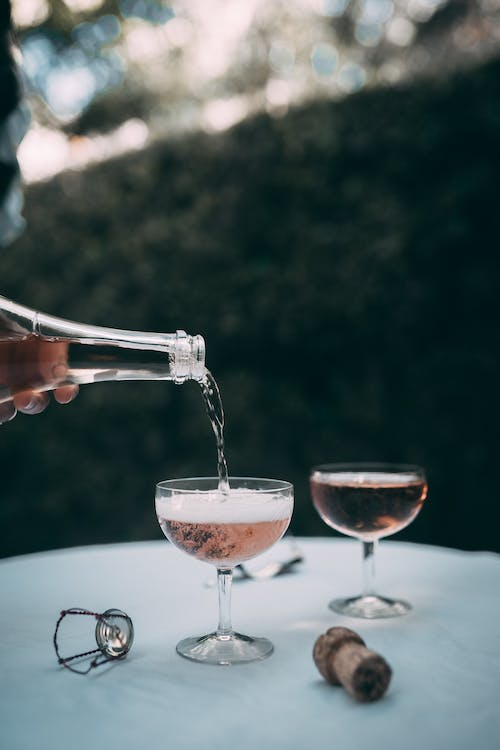alcohol: (152, 475, 296, 667), (0, 291, 208, 407), (308, 463, 430, 623)
